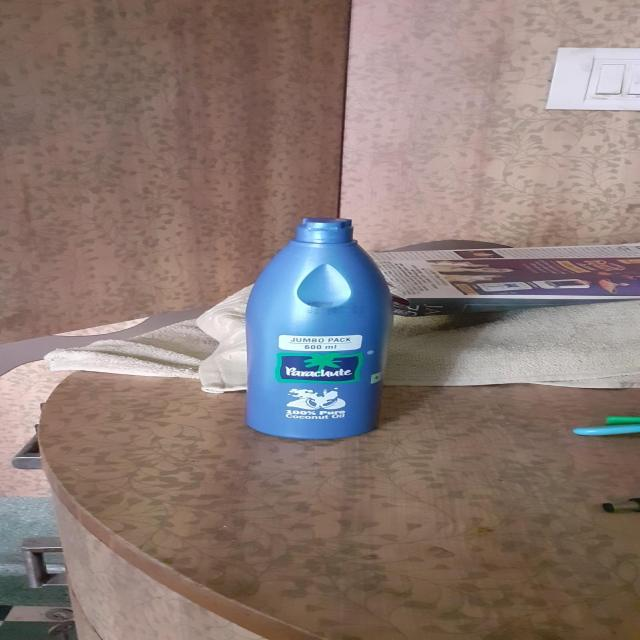parachute_oil: (250, 214, 416, 451)
